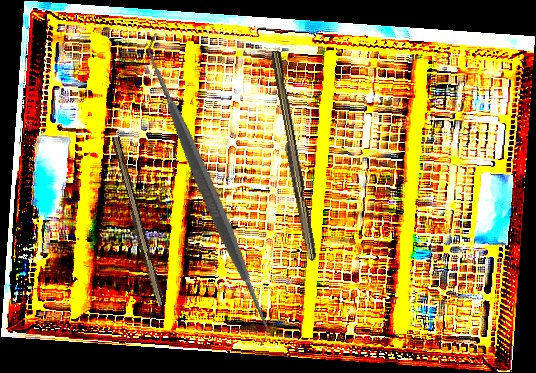Scalpel Handle: (264, 49, 321, 263), (106, 136, 168, 307)
Spatula Surgical: (50, 32, 367, 347)
